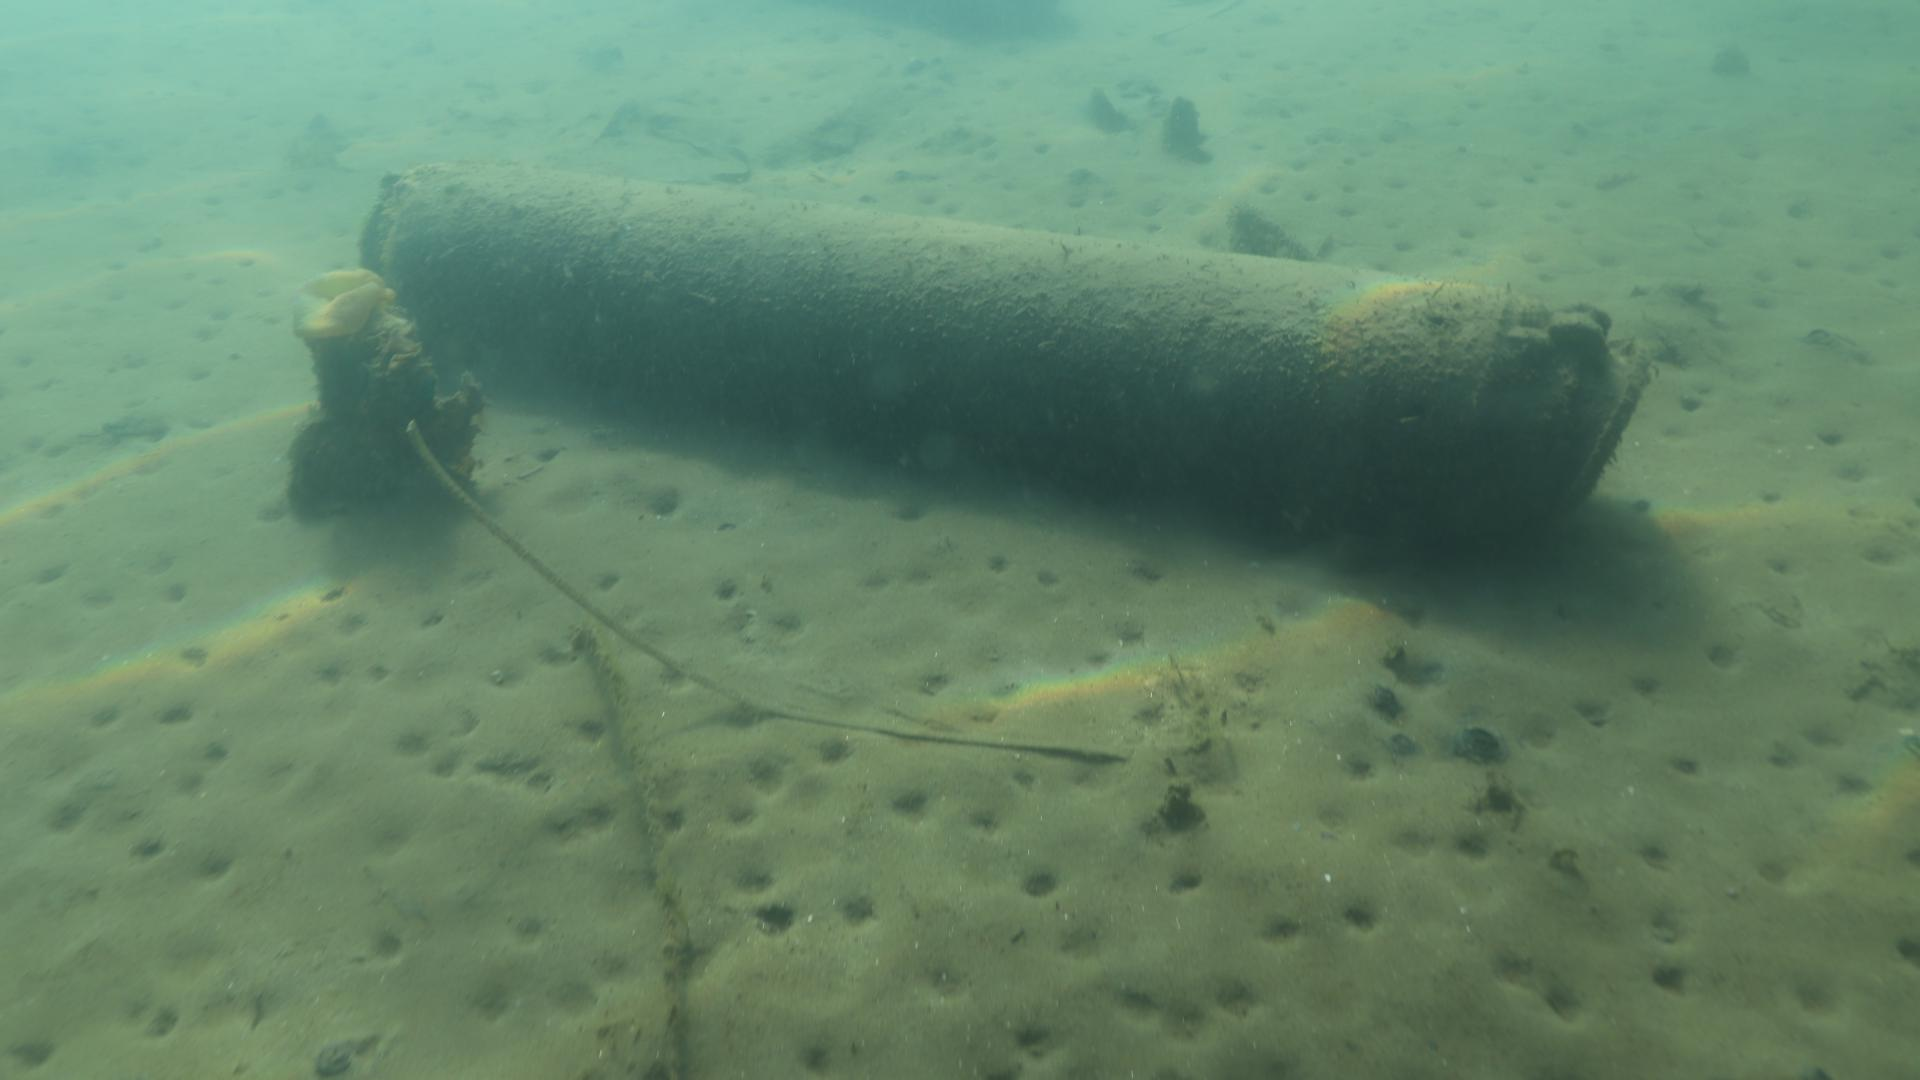eel fish trap: (351, 158, 1652, 520)
